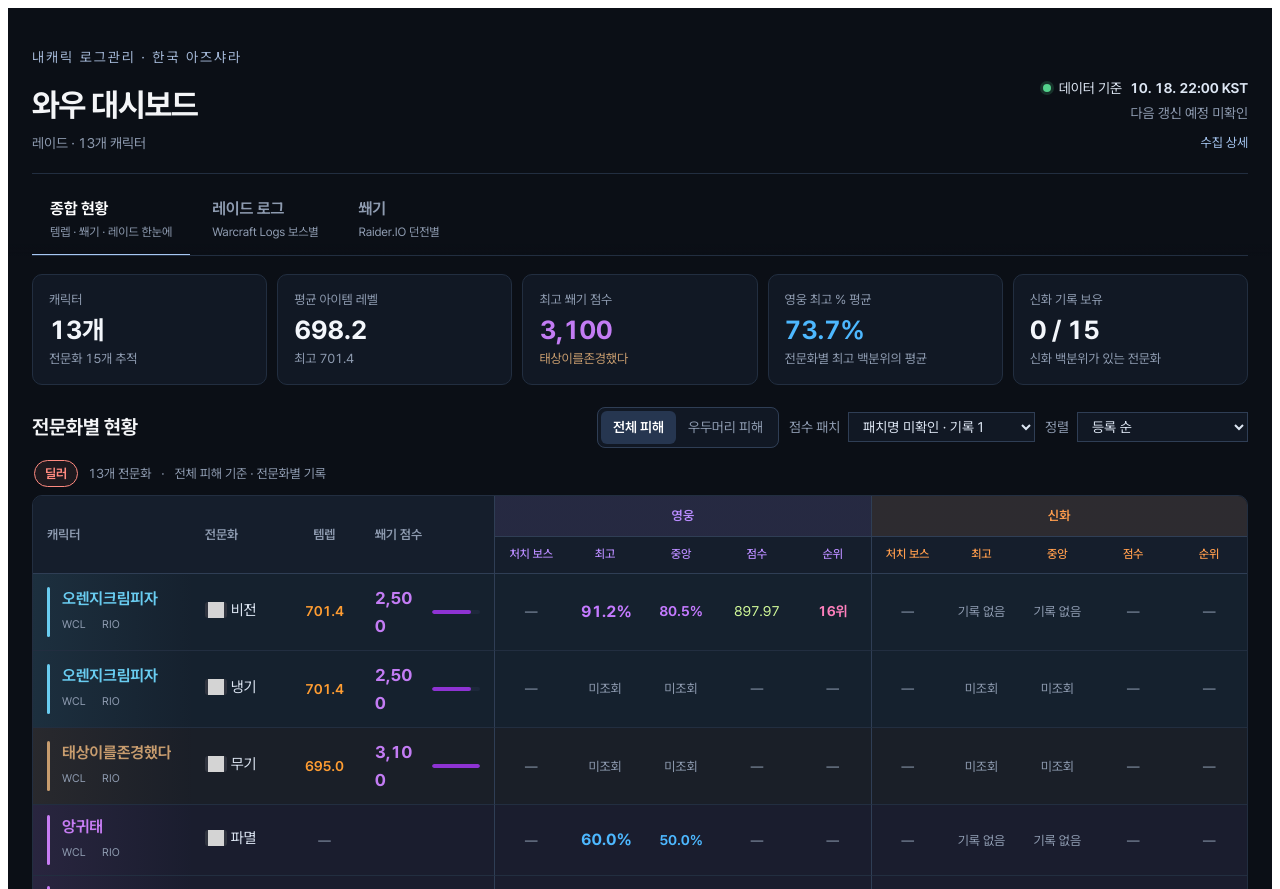
Scenario: overview tab › shows All Stars points and rank for the selected patch and damage metric
Check: the cell "897.97" is shown, box [719,574,795,651]
Check: the cell "16위" is shown, box [795,574,871,651]
Select "패치명 미확인 · 기록 2" in the dropdown named "All Stars 점수 패치" at point(942, 427), box [848,412,1035,442]
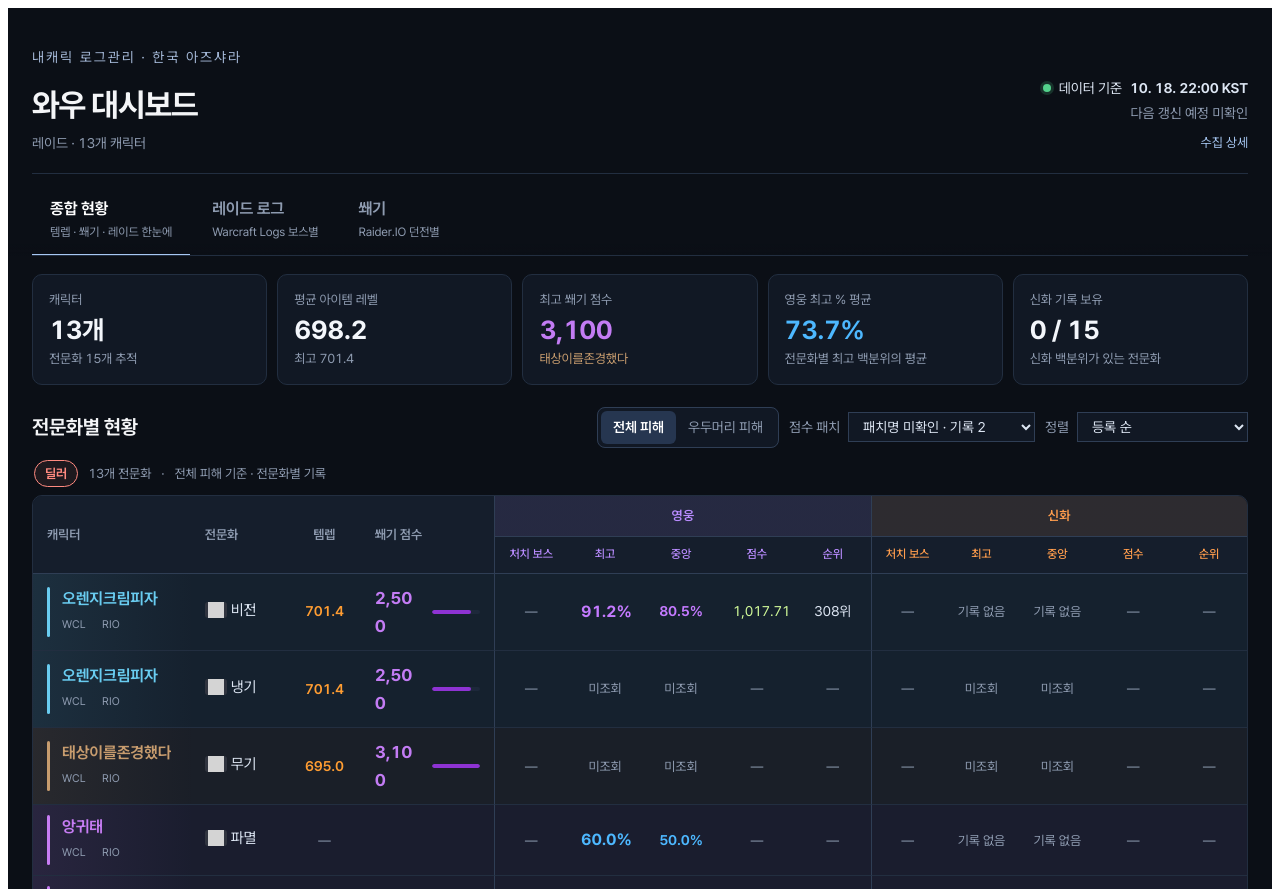
Check: the cell "1,017.71" is shown, box [719,574,795,651]
Check: the cell "308위" is shown, box [795,574,871,651]
Select "패치명 미확인 · 기록 1" in the dropdown named "All Stars 점수 패치" at point(942, 427), box [848,412,1035,442]
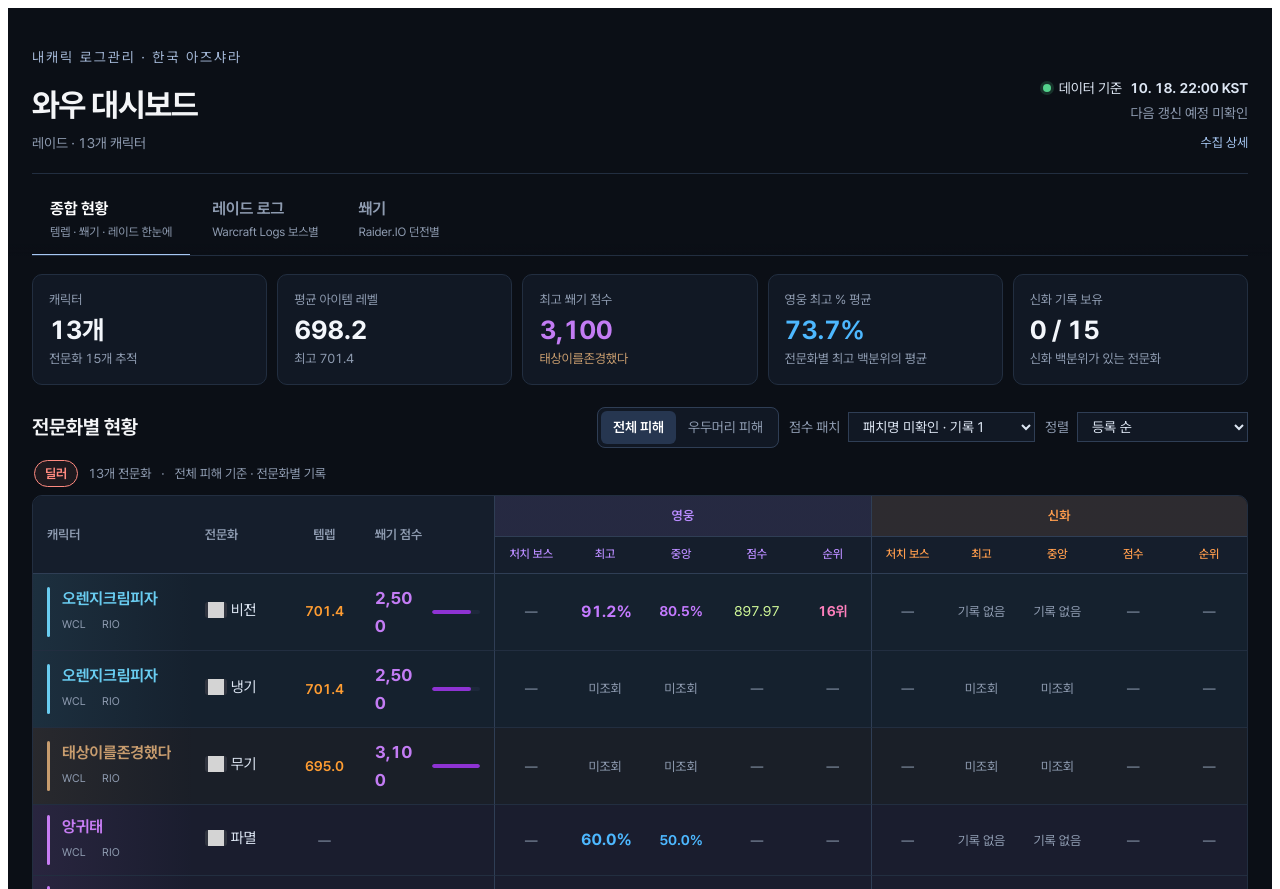
Click the button "우두머리 피해" at point(726, 427), box [676,411,775,444]
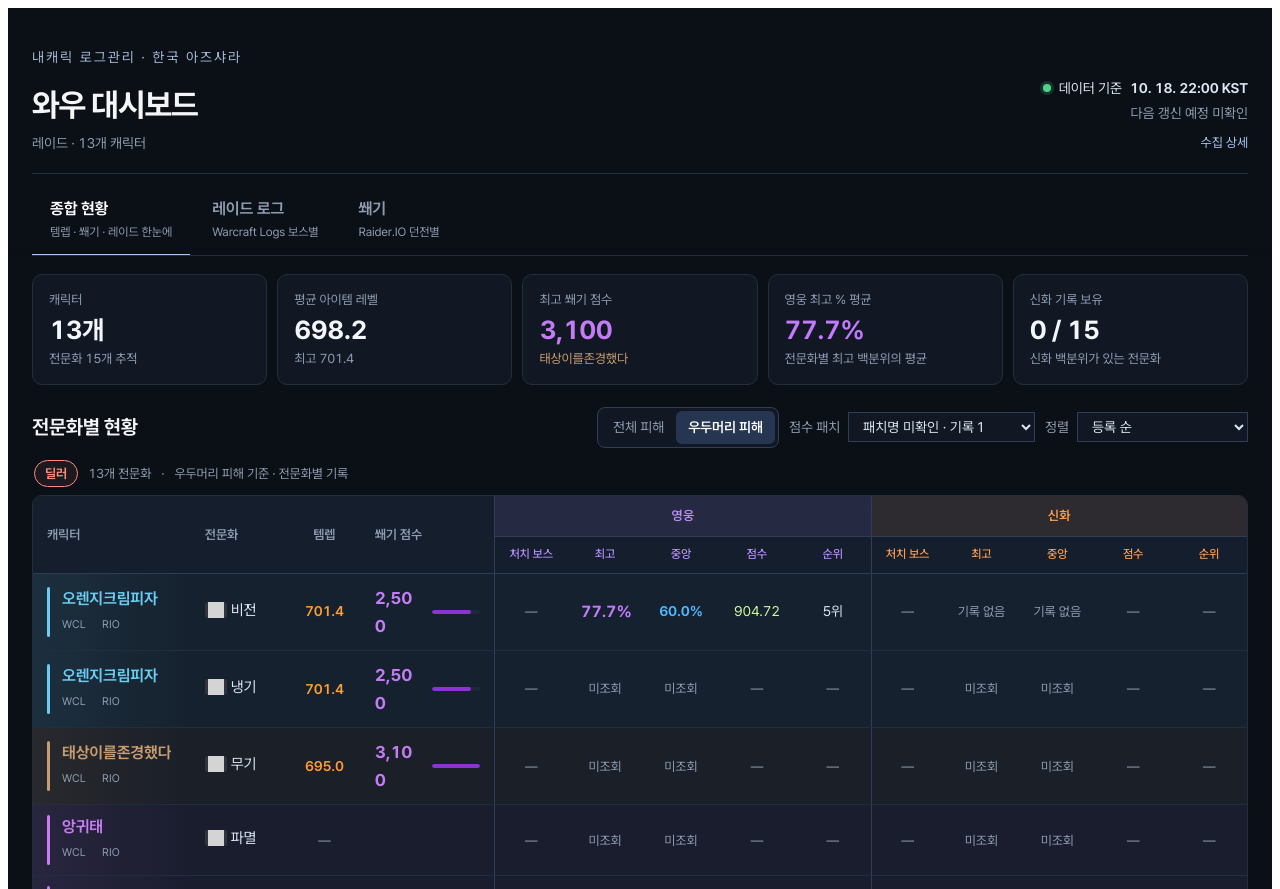
Check: the cell "904.72" is shown, box [719,574,795,651]
Check: the cell "77.7%" is shown, box [567,574,643,651]
